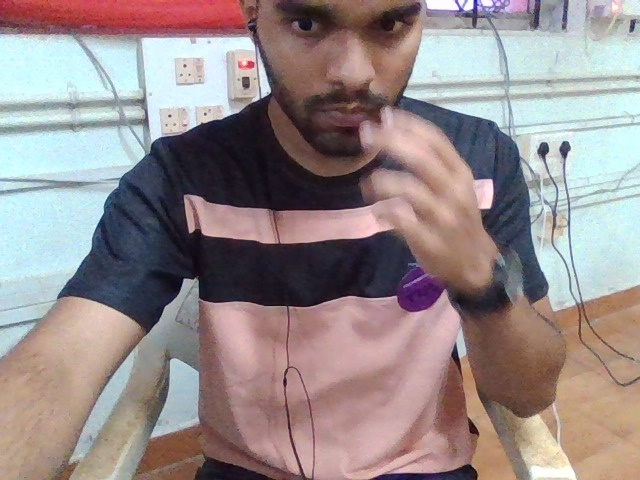more: (344, 95, 563, 308)
